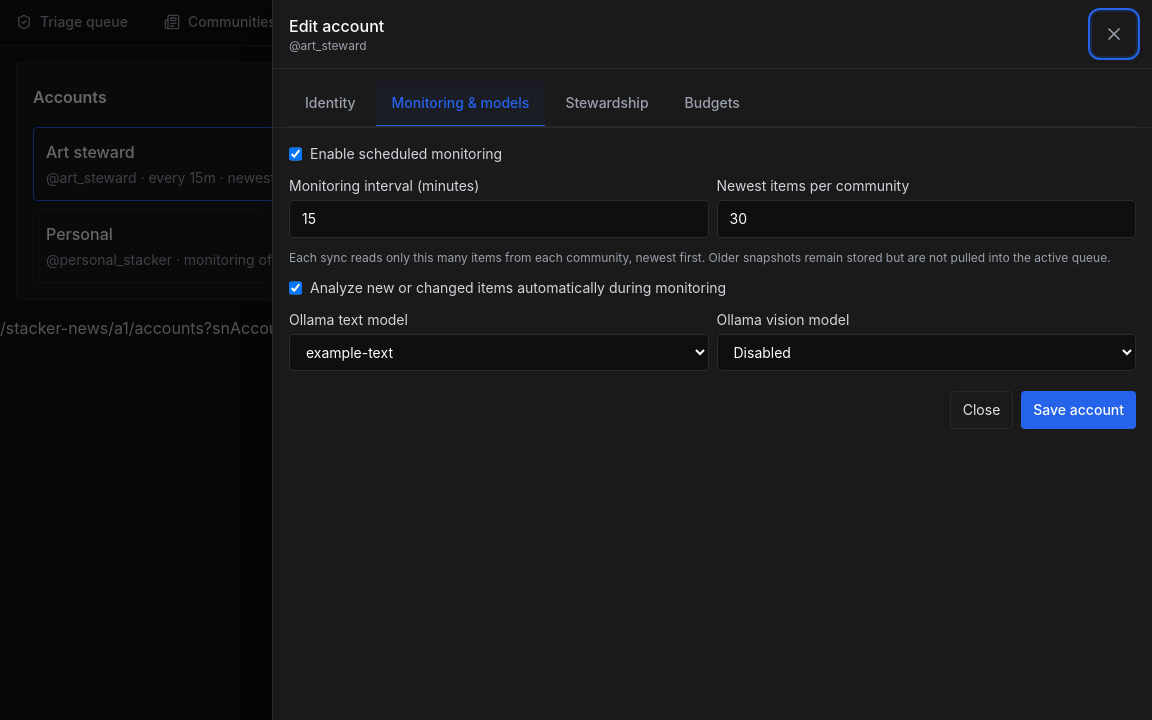
it: StackerNews › saves only the selected account configuration
The image size is (1152, 720).
Clear the number field labelled "Monitoring interval (minutes)": [499, 219] box [289, 200, 708, 238]
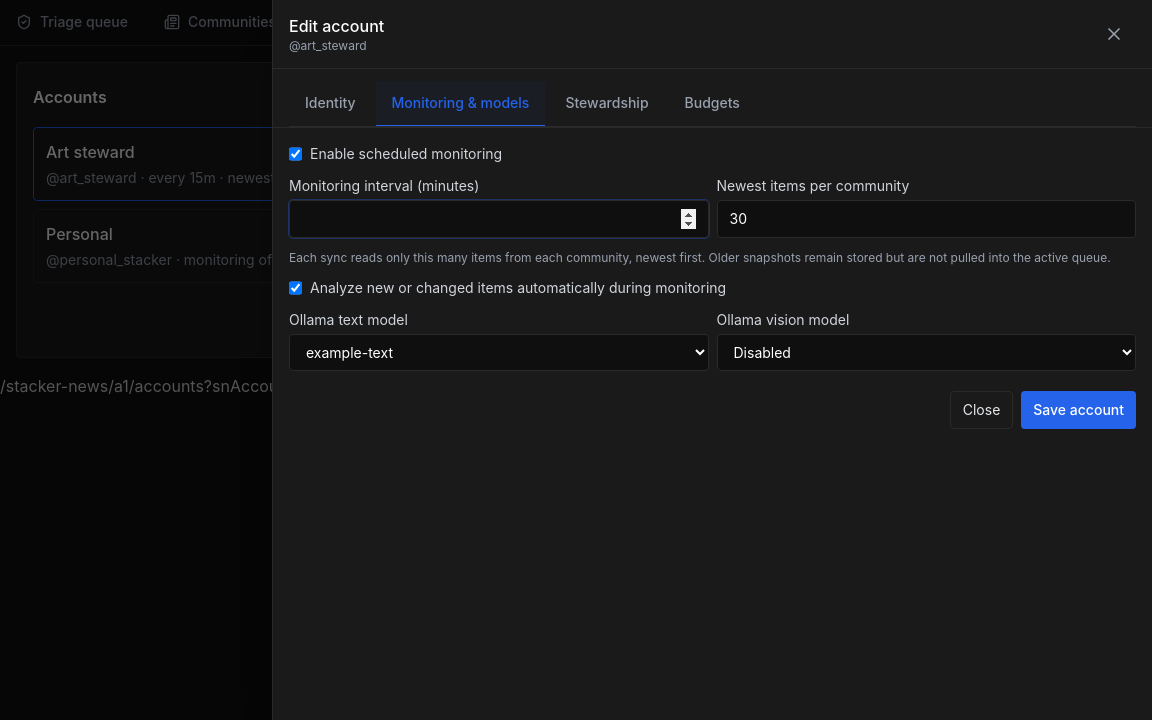
In the number field labelled "Monitoring interval (minutes)": [499, 219] box [289, 200, 708, 238], type "20"
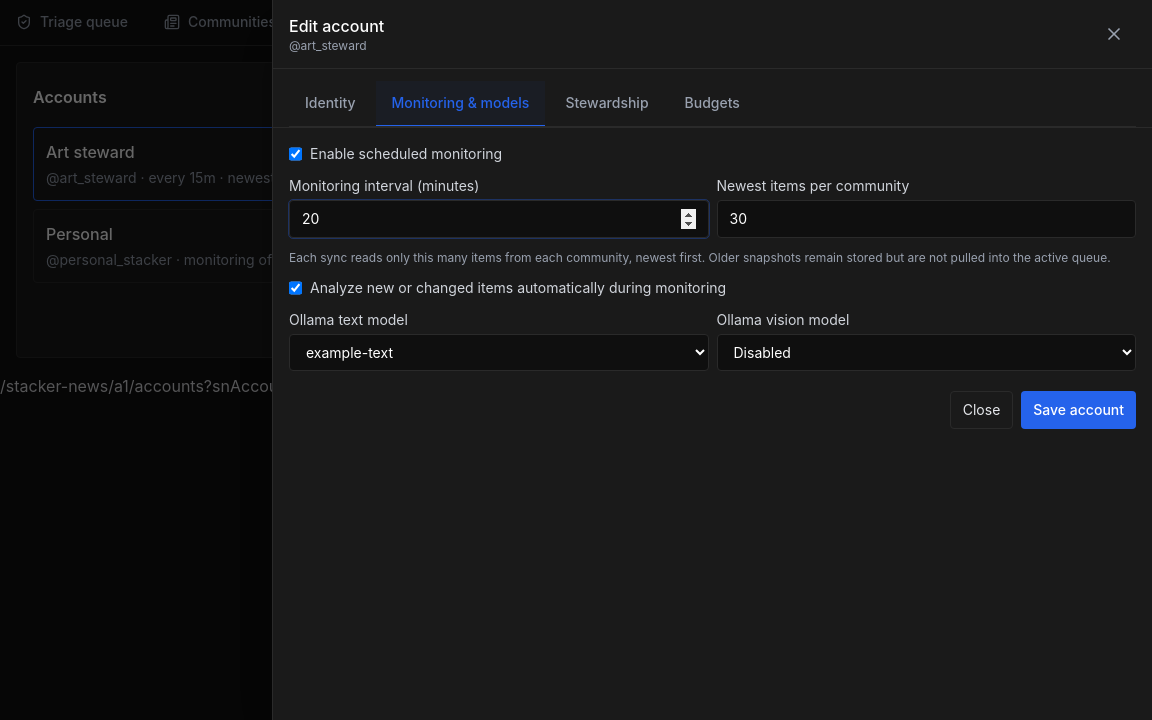
Click the button "Save account": [1079, 410] box [1021, 391, 1136, 429]
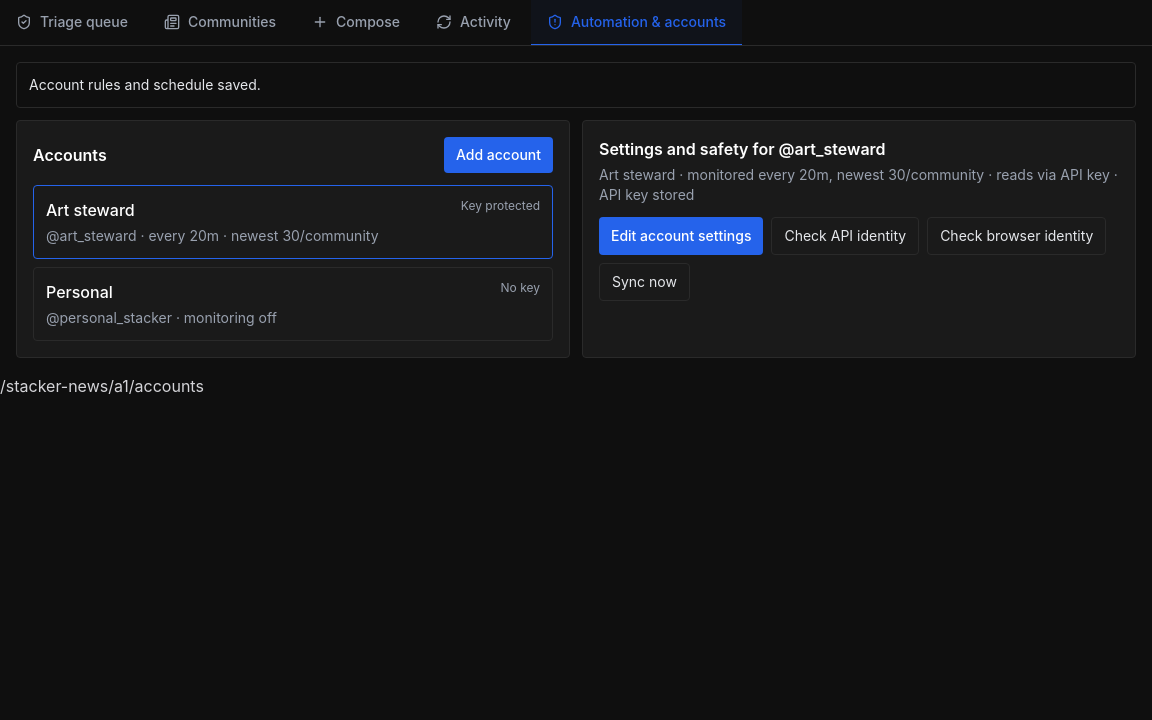
Result: the dialog is gone
Result: the text with test id "location" no longer shows "snAccount"
